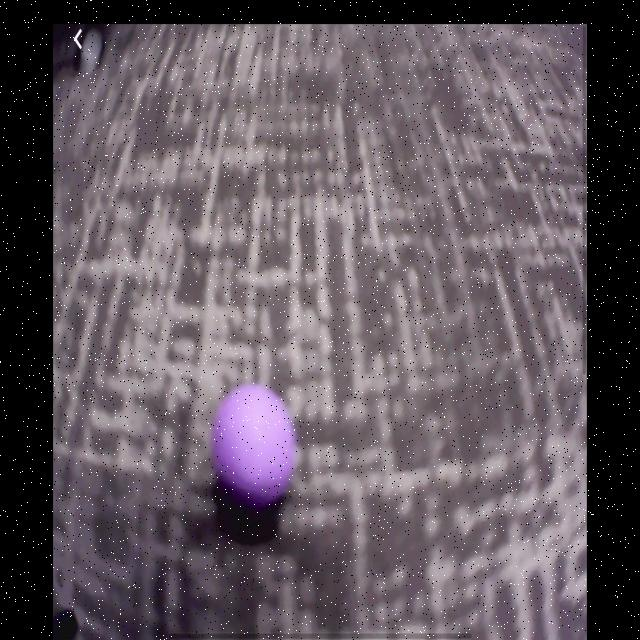ball: (211, 383, 301, 508)
